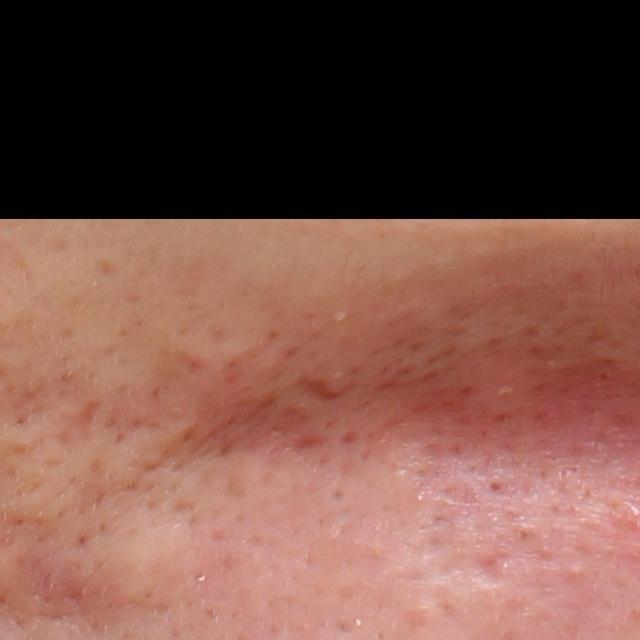atrophic_scar: (428, 552, 506, 590), (54, 397, 101, 443), (290, 373, 355, 403)
comedo: (486, 477, 507, 498)
hypertrophic_scar: (70, 508, 205, 617)
